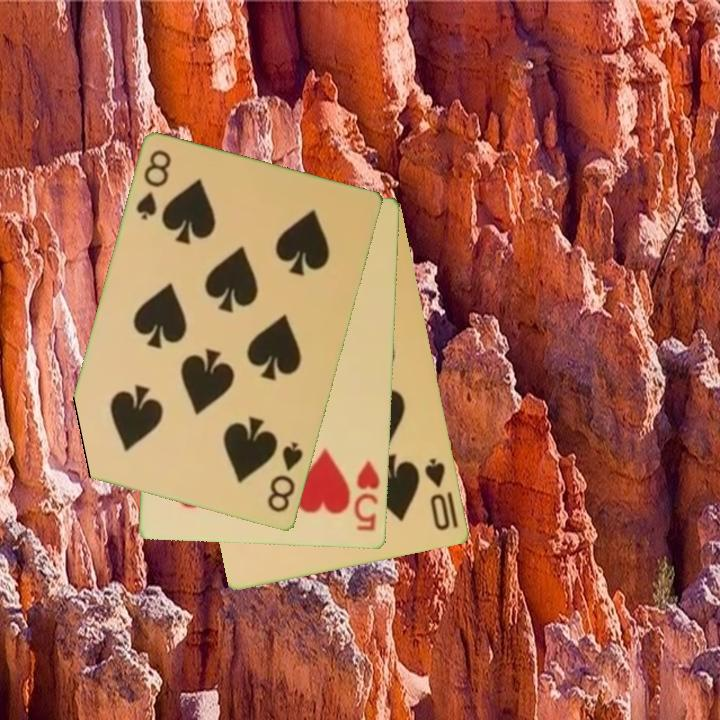10s: (421, 455, 462, 534)
5h: (351, 458, 383, 535)
8s: (264, 438, 306, 516), (133, 146, 175, 224)
